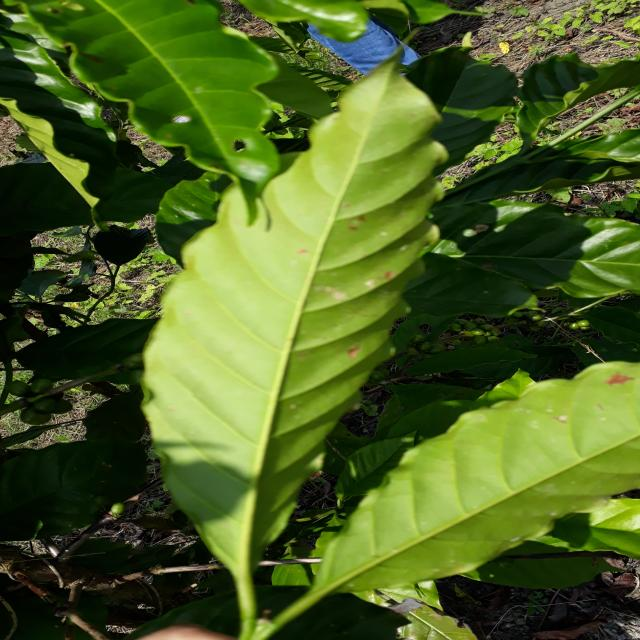Enfermedad-Roya: (142, 53, 456, 640)
